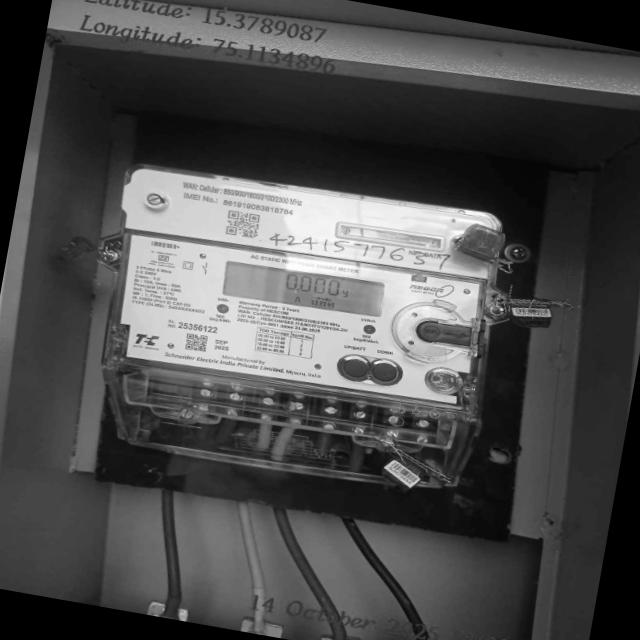meter: (99, 155, 522, 417)
